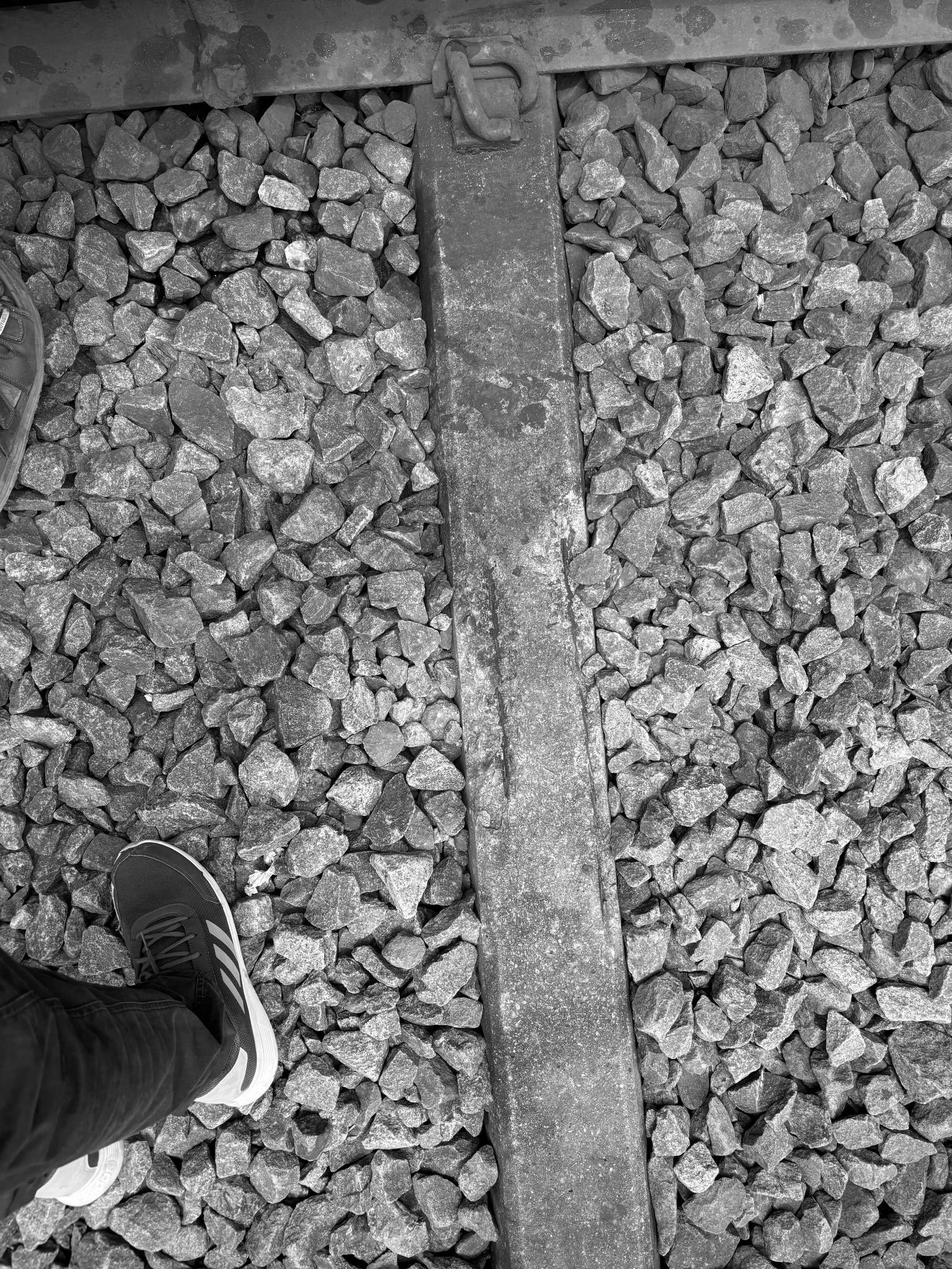cracks in midportion: (535, 493, 638, 987), (463, 523, 512, 837)
